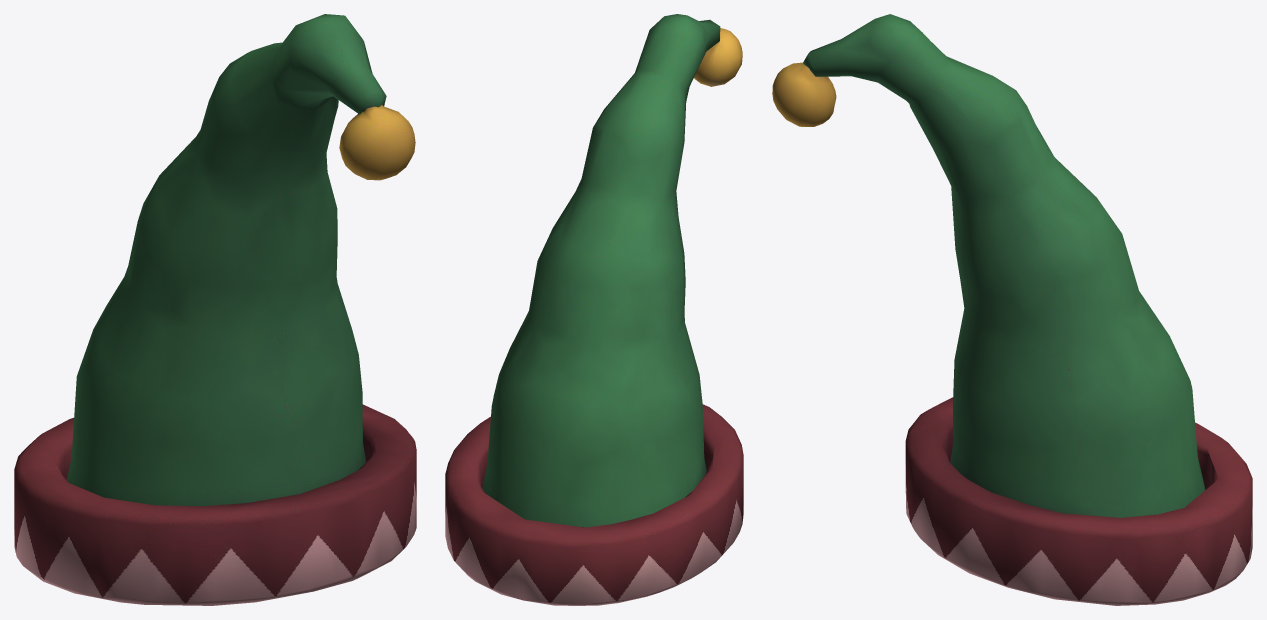
File: hat_elf.glb
The picture shows the model from 3 angles, left to right: view 1: azimuth 30°, elevation 25°; view 2: azimuth 150°, elevation 25°; view 3: azimuth 270°, elevation 25°; orthographic projection. The views are drawn at different scales.
Parts seen in each view (by area): view 1: Hat_Elf_Felt, Hat_Elf_Cuff, Hat_Elf_Bell; view 2: Hat_Elf_Felt, Hat_Elf_Cuff, Hat_Elf_Bell; view 3: Hat_Elf_Felt, Hat_Elf_Cuff, Hat_Elf_Bell.
Boxes of the visible parts, left/top/right/bottom form: Hat_Elf_Felt: left=66, top=14, right=386, bottom=506; Hat_Elf_Cuff: left=14, top=404, right=416, bottom=605; Hat_Elf_Bell: left=339, top=104, right=415, bottom=180; Hat_Elf_Felt: left=482, top=14, right=720, bottom=527; Hat_Elf_Cuff: left=445, top=404, right=743, bottom=605; Hat_Elf_Bell: left=694, top=28, right=742, bottom=86; Hat_Elf_Felt: left=803, top=14, right=1205, bottom=517; Hat_Elf_Cuff: left=905, top=397, right=1252, bottom=605; Hat_Elf_Bell: left=772, top=62, right=836, bottom=126.
Size of the model in its own units: 0.274 by 0.4762 by 0.388.
Materials: 1 (1 with a texture image).
